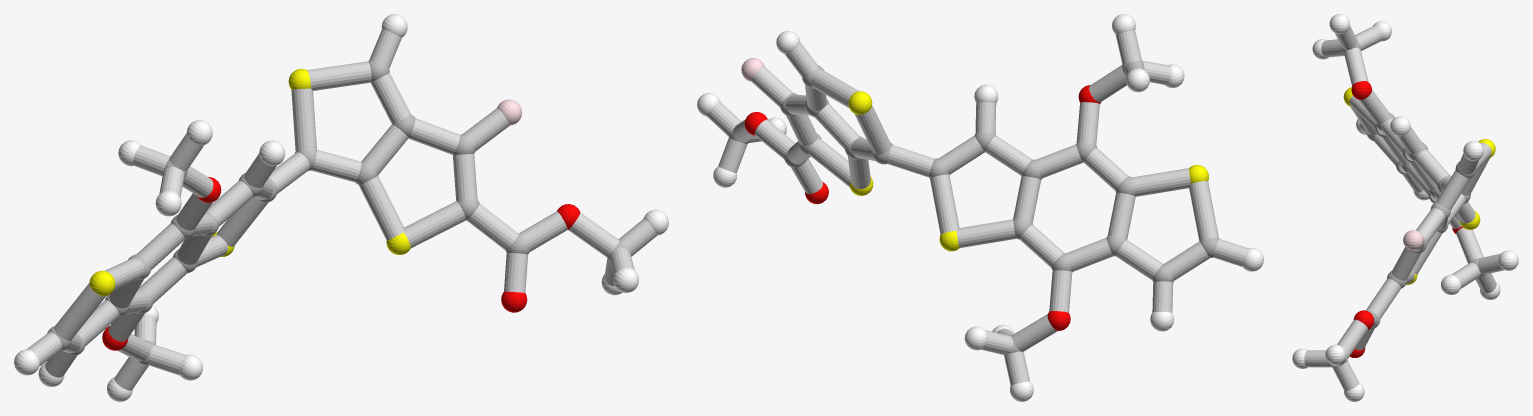
File: Dimethoxy_Benzodithiophene_Phi_25_Theta_290_Methylcarbonyl_3_Fluoro_Thienothiophene.glb
3 views of the same model, side by side, from view 1: azimuth 30°, elevation 25°; view 2: azimuth 150°, elevation 25°; view 3: azimuth 270°, elevation 25° (orthographic). The views are drawn at different scales.
Parts seen in each view (by area): view 1: grp15205, grp8689, grp1, grp7241, grp13395; view 2: grp15205, grp8689, grp1, grp7241, grp13395; view 3: grp15205, grp8689, grp1, grp13395, grp7241, grp14843.
Part boxes in pixels (x1,y1,x2,y2): grp15205: (26, 29, 657, 390); grp8689: (14, 14, 668, 401); grp1: (47, 60, 631, 365); grp7241: (89, 68, 410, 296); grp13395: (102, 177, 580, 350); grp15205: (707, 30, 1248, 385); grp8689: (697, 14, 1263, 401); grp1: (729, 60, 1219, 353); grp7241: (848, 91, 1208, 251); grp13395: (744, 85, 1100, 330); grp15205: (1304, 25, 1504, 390); grp8689: (1292, 14, 1518, 401); grp1: (1329, 40, 1485, 367); grp13395: (1349, 81, 1462, 357); grp7241: (1343, 87, 1495, 284); grp14843: (1403, 230, 1423, 250).
Bounding box in the file's own units: 16.75 × 8.95 × 6.6.
